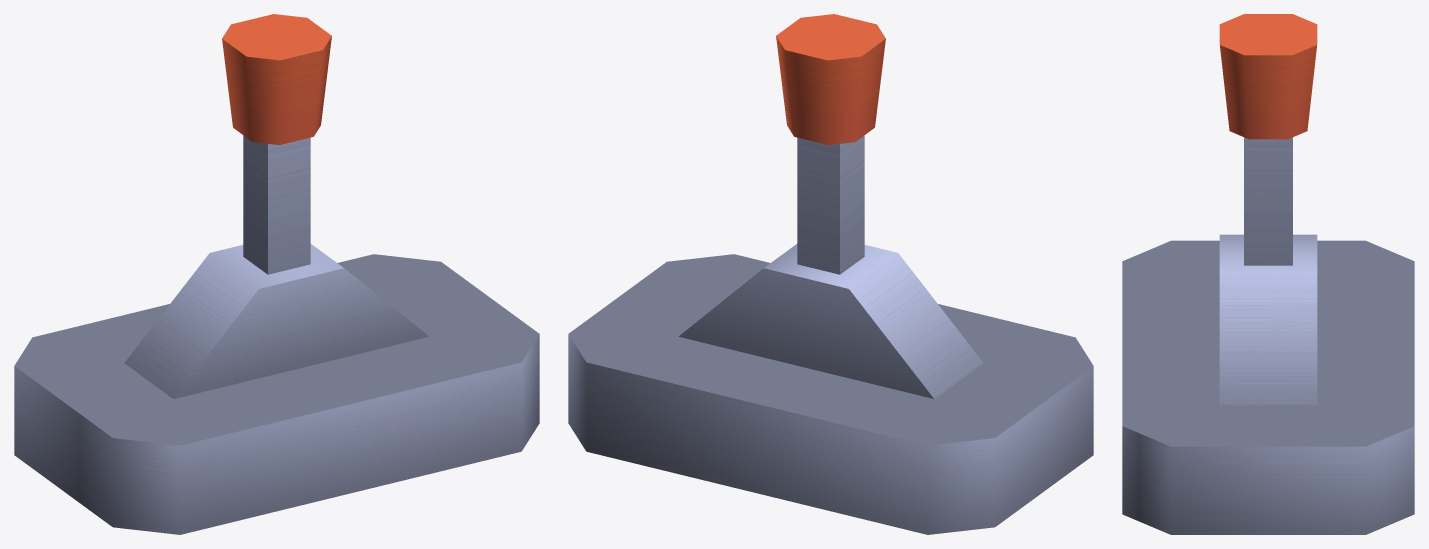
Rendered from lever-single.glb.
3 renders of one model, left to right at view 1: azimuth 30°, elevation 25°; view 2: azimuth 150°, elevation 25°; view 3: azimuth 270°, elevation 25°, orthographic.
Parts seen in each view (by area): view 1: lever-single, handle; view 2: lever-single, handle; view 3: lever-single, handle.
Part boxes in pixels (<box>): lever-single: <box>14,244,539,534</box>; handle: <box>222,14,331,274</box>; lever-single: <box>568,244,1093,534</box>; handle: <box>776,14,885,274</box>; lever-single: <box>1122,234,1414,534</box>; handle: <box>1219,14,1317,265</box>.
Size of the model in its own units: 0.5 by 0.45 by 0.3.
Materials: 1 (1 with a texture image).
